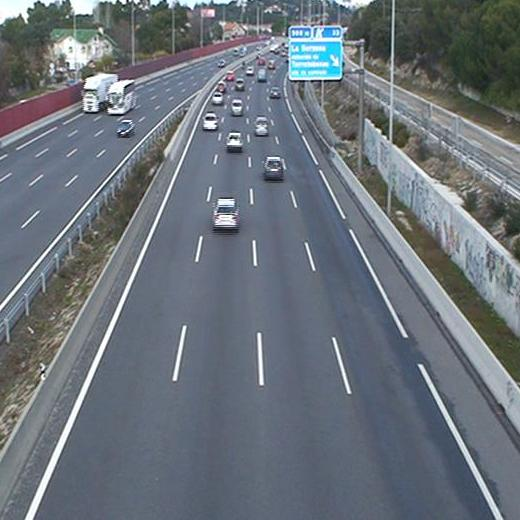car: (213, 198, 237, 228), (263, 157, 283, 178), (254, 116, 268, 136), (203, 113, 217, 130), (227, 132, 241, 149), (231, 99, 243, 115), (269, 86, 281, 98), (234, 78, 245, 91), (215, 81, 226, 92), (213, 93, 224, 104), (225, 70, 234, 80)
van: (257, 68, 266, 83)
